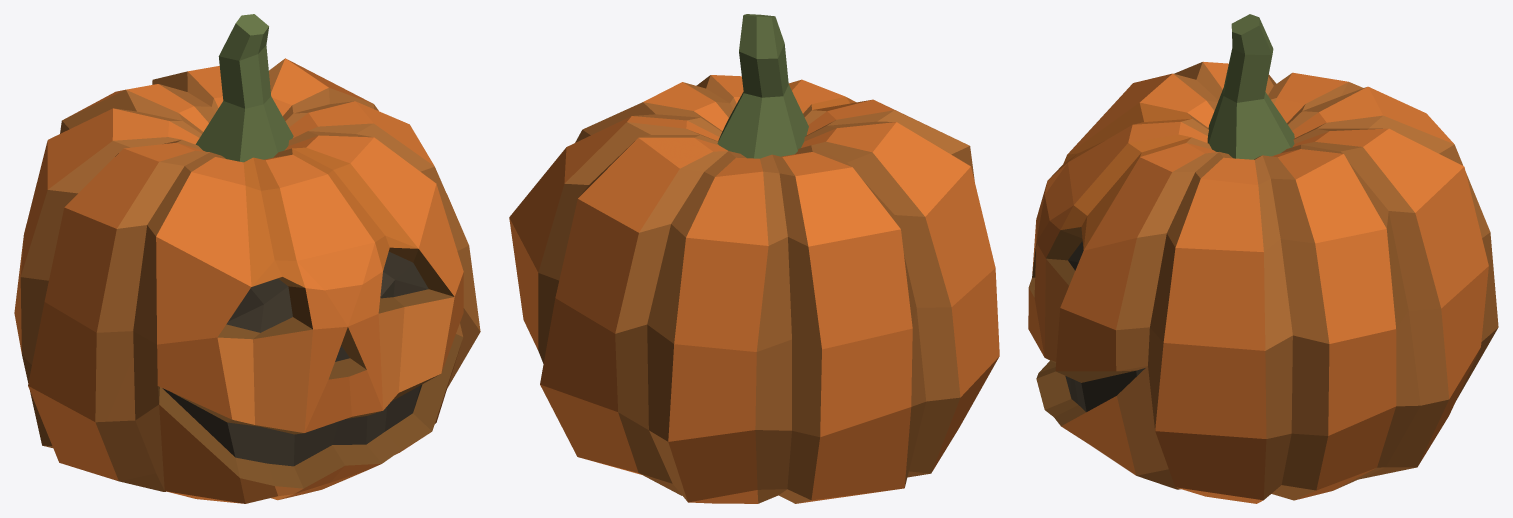
File: WF_LP_HT_Props_Pumpkin.002.fbx
3 renders of one model, left to right at view 1: azimuth 30°, elevation 25°; view 2: azimuth 150°, elevation 25°; view 3: azimuth 270°, elevation 25°, orthographic.
Parts seen in each view (by area): view 1: WF_LP_HT_Props_Pumpkin.002; view 2: WF_LP_HT_Props_Pumpkin.002; view 3: WF_LP_HT_Props_Pumpkin.002.
Part boxes in pixels (bbox=[...]): WF_LP_HT_Props_Pumpkin.002: bbox=[14, 14, 480, 503]; WF_LP_HT_Props_Pumpkin.002: bbox=[509, 14, 999, 503]; WF_LP_HT_Props_Pumpkin.002: bbox=[1028, 14, 1498, 503].
Bounding box in the file's own units: 0.6106 × 0.6106 × 0.5959.
